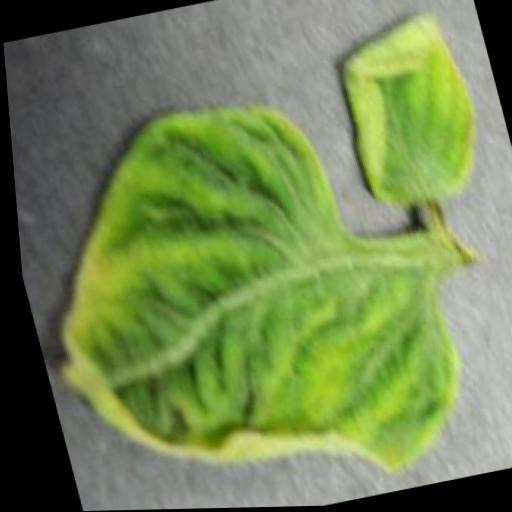Yellow Leaf Curl Virus: (5, 65, 486, 512), (325, 7, 491, 214)
